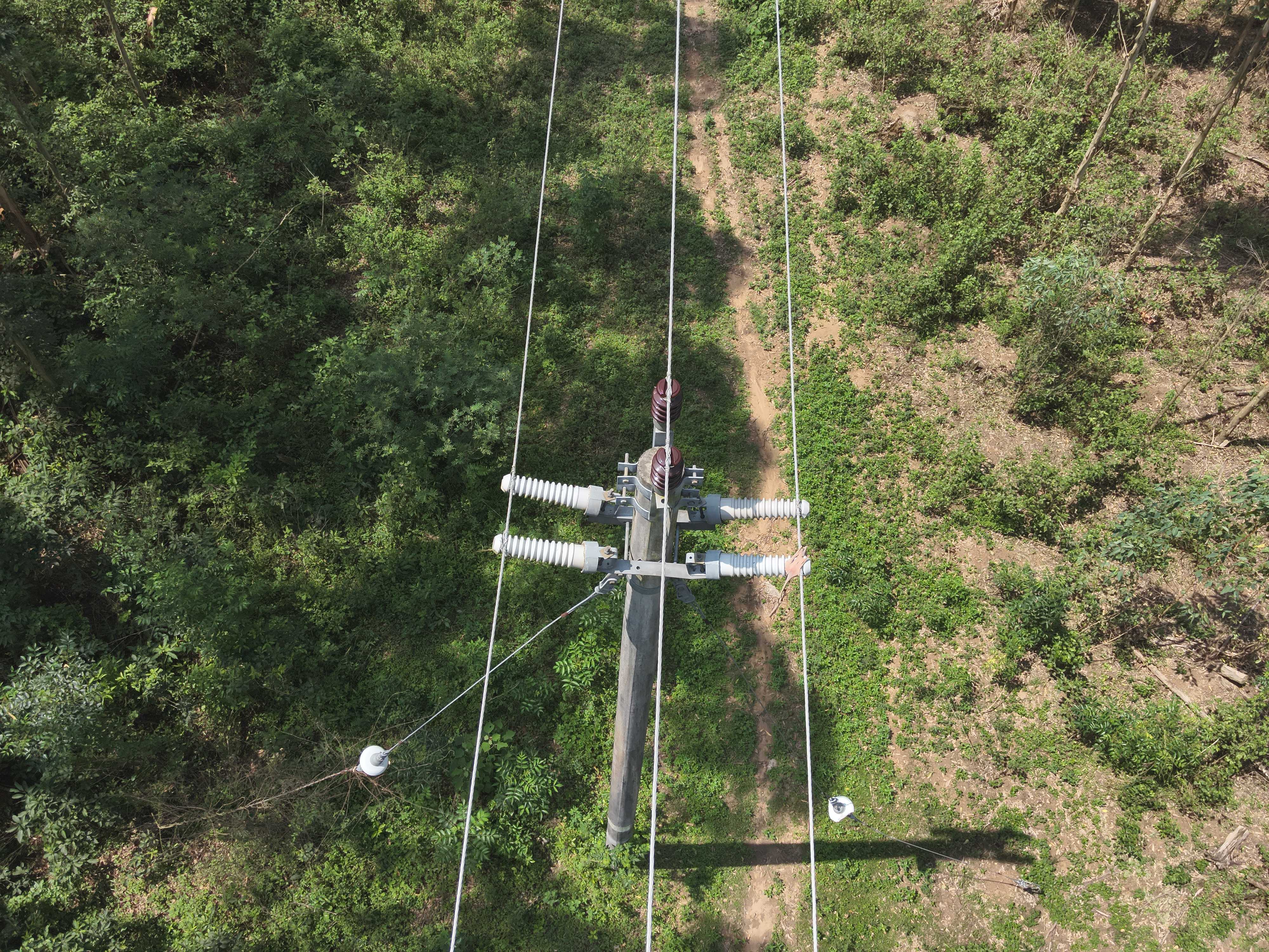异物: (768, 545, 811, 617)
